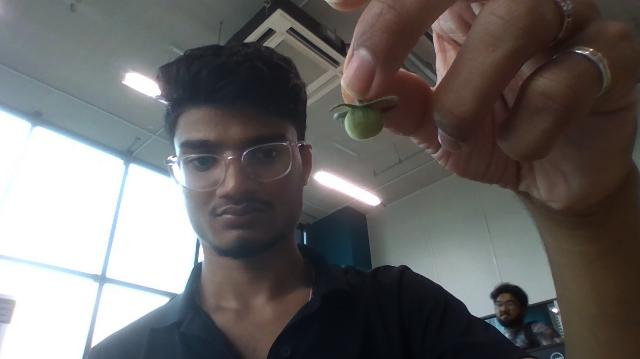Fruit Maturation: (343, 105, 384, 141)
